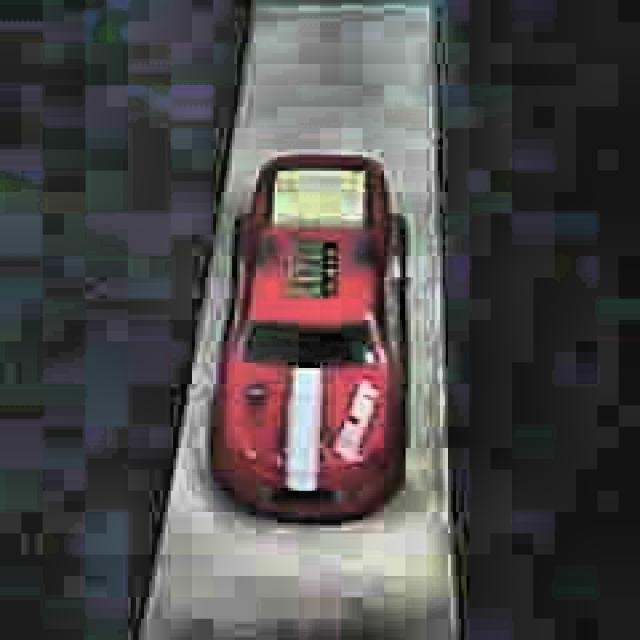car: (206, 150, 412, 530)
